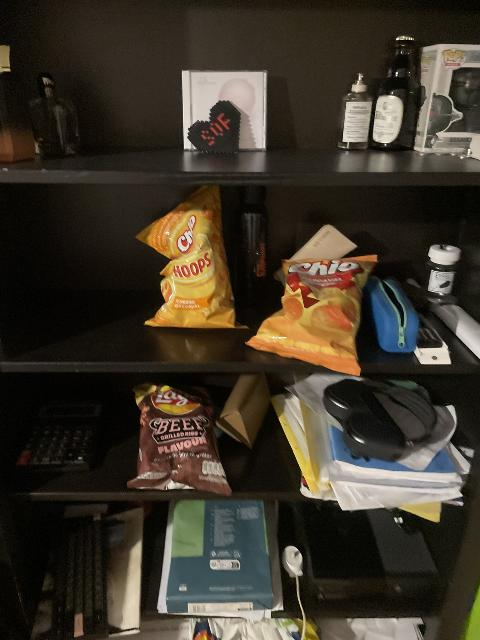Chio Cascaval 125g: (243, 252, 379, 379)
Chio Hula Hoops Cheese 70g: (136, 186, 247, 328)
Lays Beef Grilled Ribs 125g: (127, 383, 232, 493)
